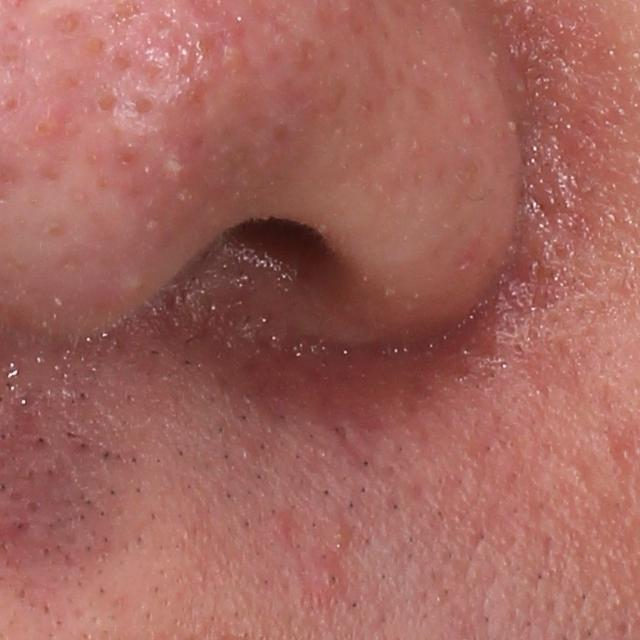pustule: (153, 149, 194, 190)
